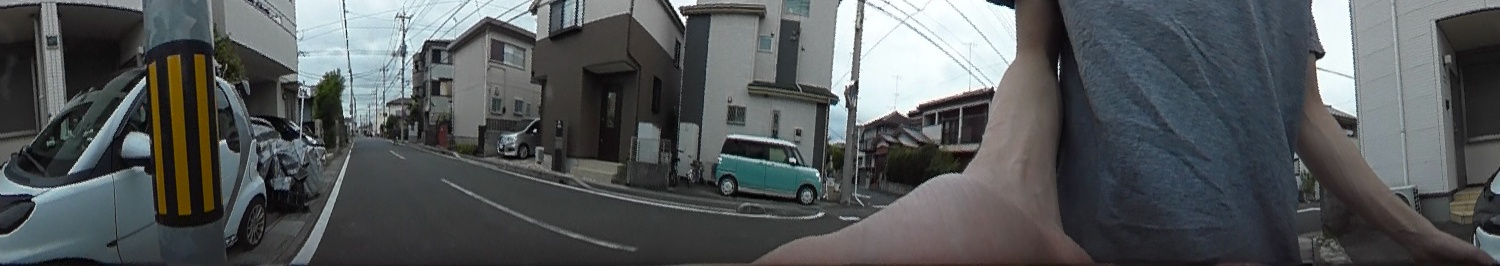difficult_person: (389, 123, 400, 146)
